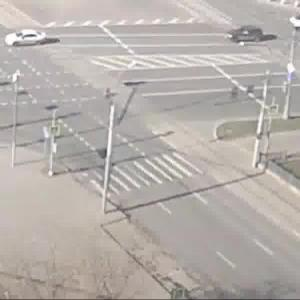car: (4, 29, 51, 49), (223, 28, 273, 46)
